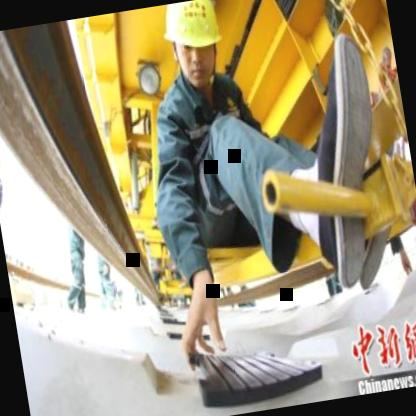helmet: (157, 0, 232, 98)
